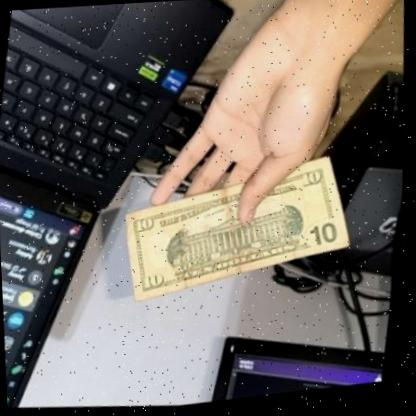ten-back: (109, 133, 371, 332)
